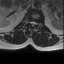CCS_normal: (31, 19, 33, 28)
LFS_stenosis: (36, 20, 38, 26)
LLS_normal: (33, 20, 36, 26)
RFS_stenosis: (28, 19, 30, 24)
RLS_normal: (30, 19, 31, 25)
